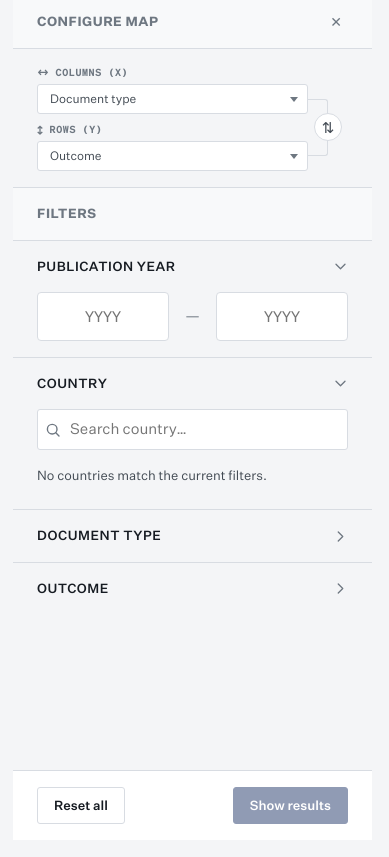
Test case: collapsible concept filters › flag off renders the full tree with no toggles
Click the button "Outcome" at (73, 588), box [13,563,372,614]
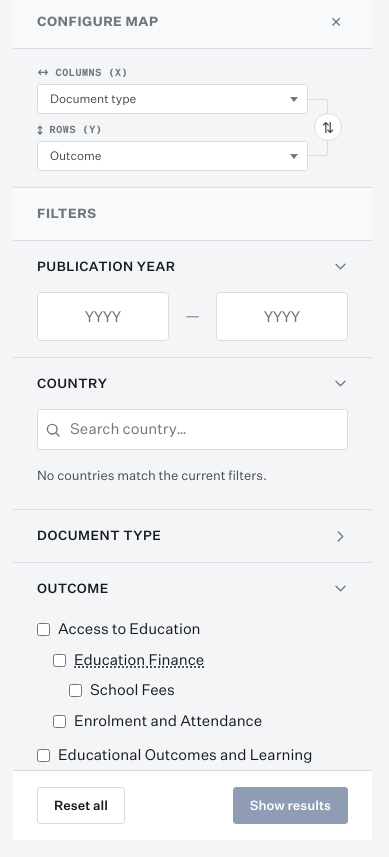
Check: the checkbox labelled "School Fees" is shown, box [69,684,82,697]
